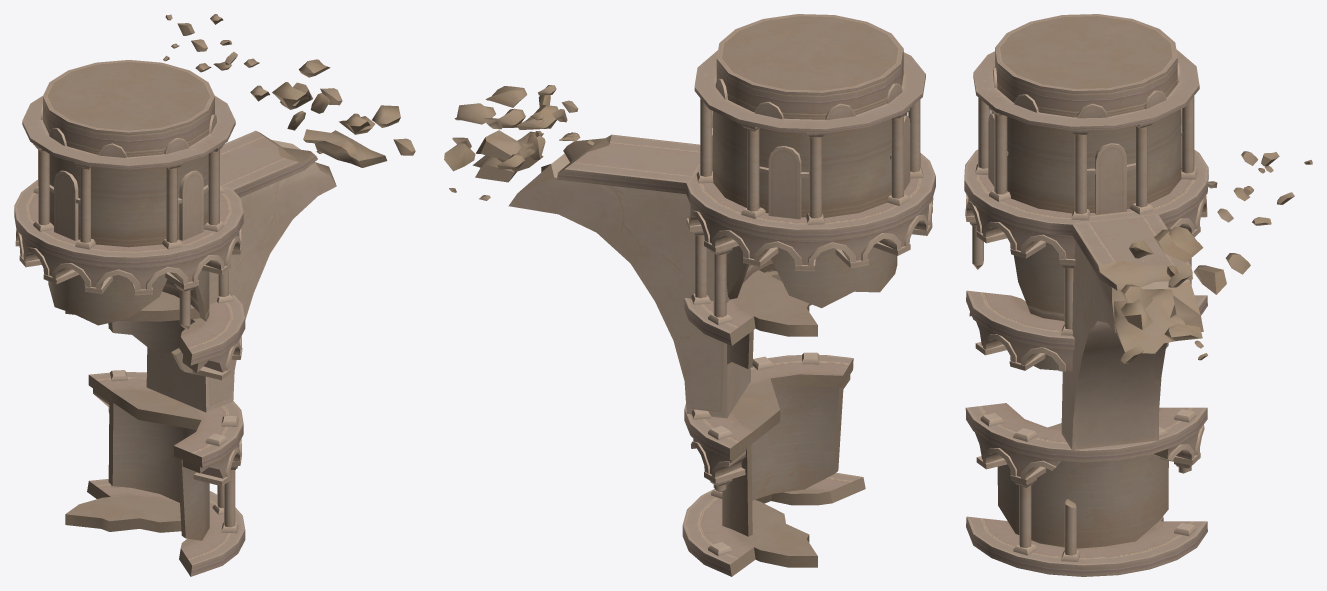
File: PF_Desertnew_Tower02.fbx
3 renders of one model, left to right at view 1: azimuth 30°, elevation 25°; view 2: azimuth 150°, elevation 25°; view 3: azimuth 270°, elevation 25°, orthographic. The views are drawn at different scales.
Visible parts, largest first — view 1: SM_Desertnew_tower02_a, SM_Desertnew_tower02_c, SM_Desertnew_tower02_b; view 2: SM_Desertnew_tower02_a, SM_Desertnew_tower02_b, SM_Desertnew_tower02_c; view 3: SM_Desertnew_tower02_a, SM_Desertnew_tower02_b, SM_Desertnew_tower02_c.
Part boxes in pixels (x1,y1,x2,y2): SM_Desertnew_tower02_a: [14, 60, 317, 576]; SM_Desertnew_tower02_c: [47, 14, 415, 576]; SM_Desertnew_tower02_b: [15, 104, 336, 533]; SM_Desertnew_tower02_a: [557, 14, 935, 576]; SM_Desertnew_tower02_b: [508, 66, 933, 556]; SM_Desertnew_tower02_c: [444, 16, 898, 576]; SM_Desertnew_tower02_a: [964, 14, 1208, 576]; SM_Desertnew_tower02_b: [965, 62, 1207, 561]; SM_Desertnew_tower02_c: [973, 16, 1312, 534].
Size of the model in its own units: 81.41 by 84.85 by 56.84.
